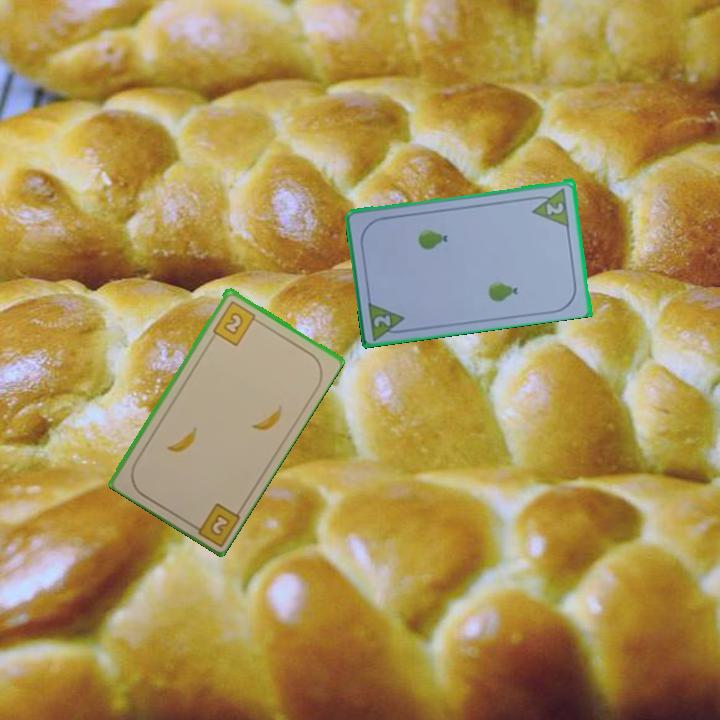2b: (209, 297, 263, 348), (186, 499, 242, 547)
2p: (364, 297, 410, 341), (528, 184, 572, 228)
